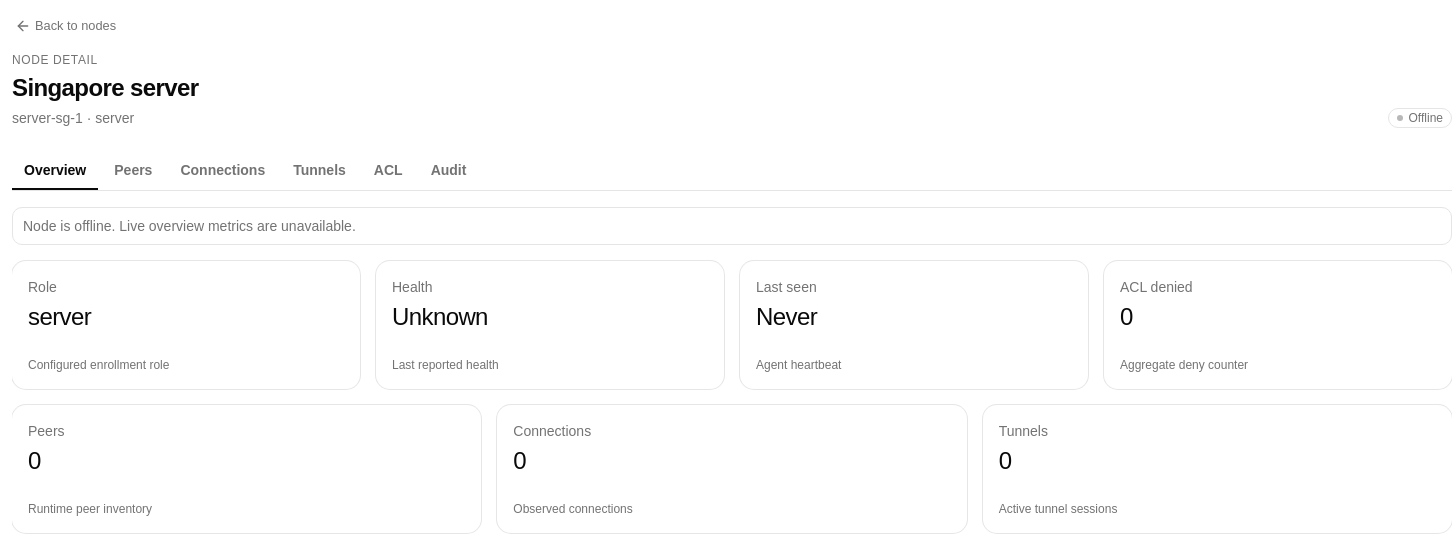
NodeDetail › disables connection writes while the node is offline
Click the tab "Connections".
click(223, 171)  # box [168,152,277,190]
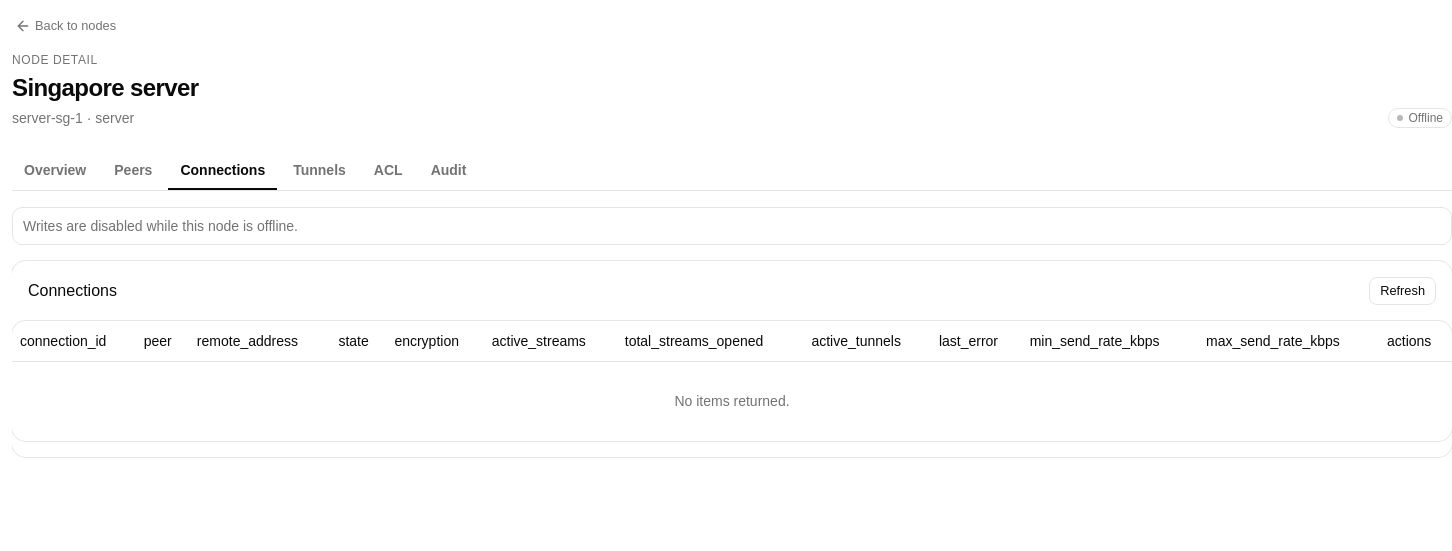
Expected: the text "Writes are disabled while this node is offline." is shown, [23,218,298,234]
